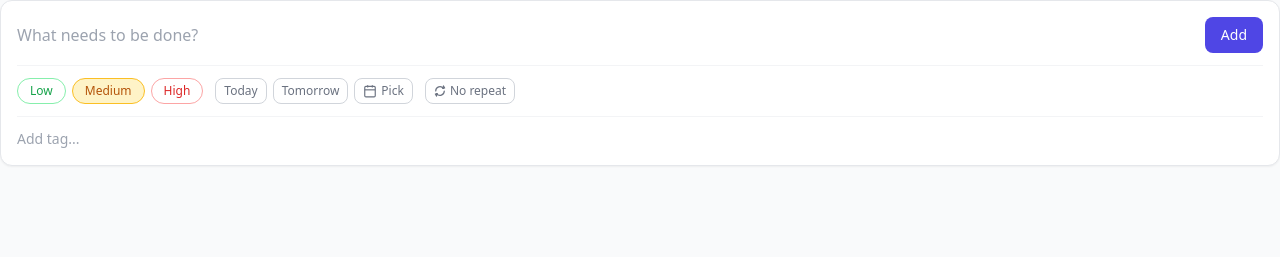
it: TaskInput — repeat chip label › shows "Custom" when Custom is selected and no days chosen
This screenshot has width=1280, height=257.
Click the button with aria-label "set repeat schedule" at (470, 91), box [425, 78, 515, 104]
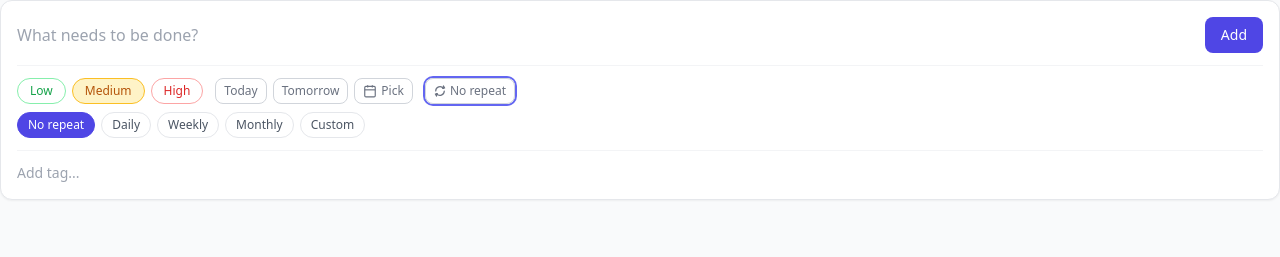
Click the button "Custom" at (332, 125), box [300, 112, 365, 138]
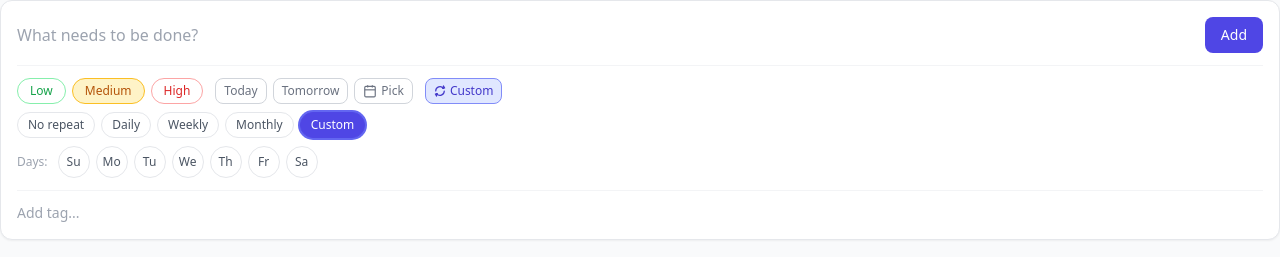
Check: the button with aria-label "set repeat schedule" reads "Custom", box [425, 78, 502, 104]
